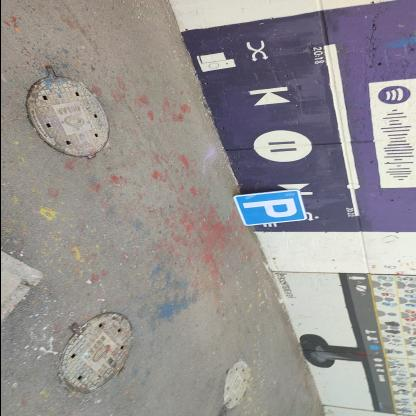Parking-Sign: (233, 190, 308, 227)
